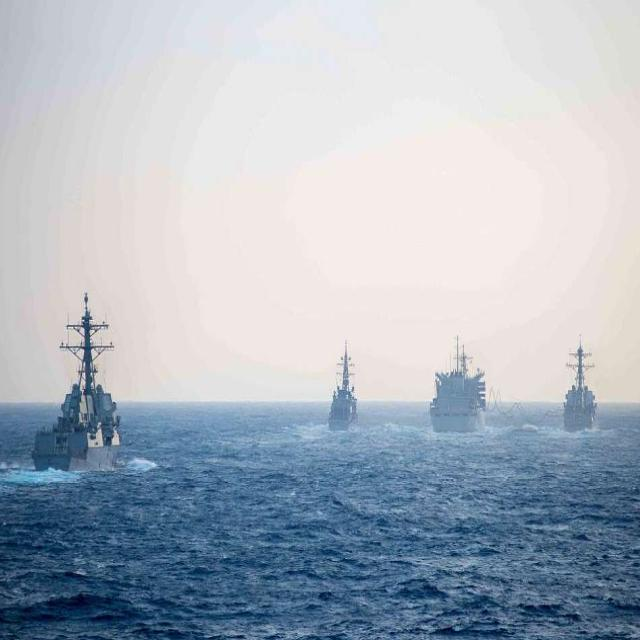navalvessels: (40, 291, 132, 484), (413, 341, 488, 436), (561, 342, 604, 442), (321, 344, 362, 431)
